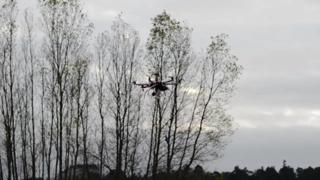UAV: (132, 74, 184, 98)
